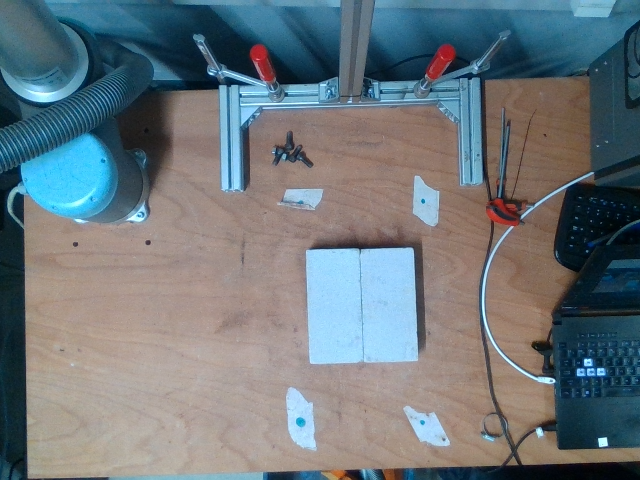brick: (360, 248, 418, 362), (306, 249, 363, 362)
